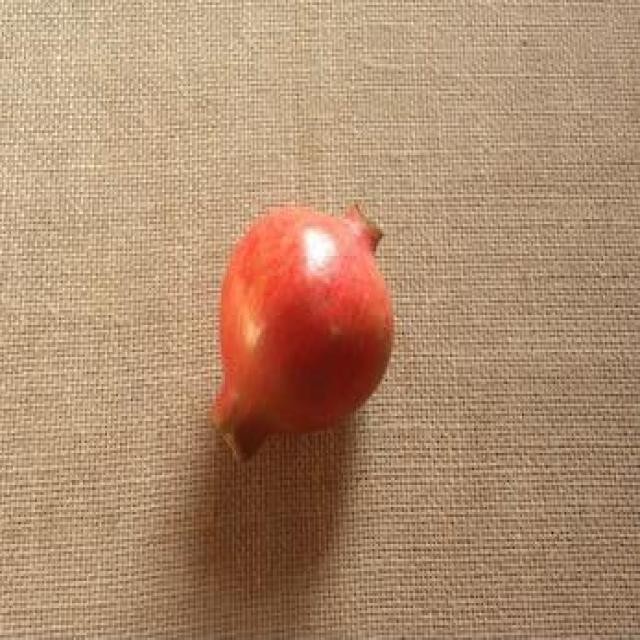Pomegranate: (207, 197, 396, 469)
